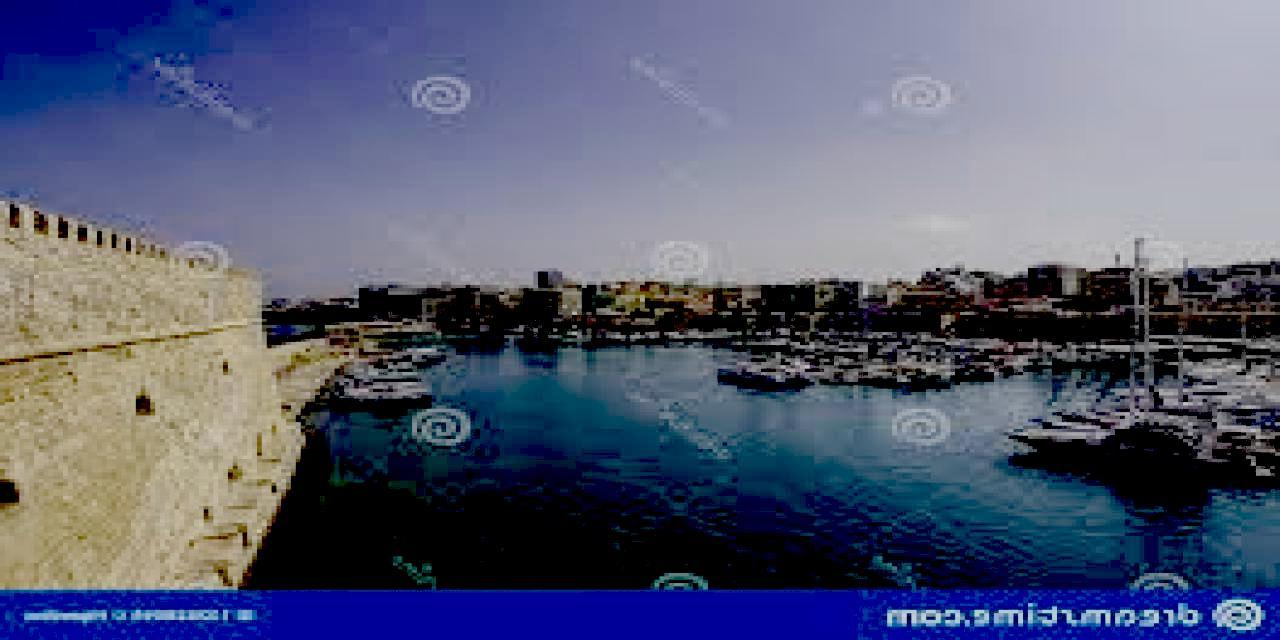Kules: (1, 197, 314, 592)
